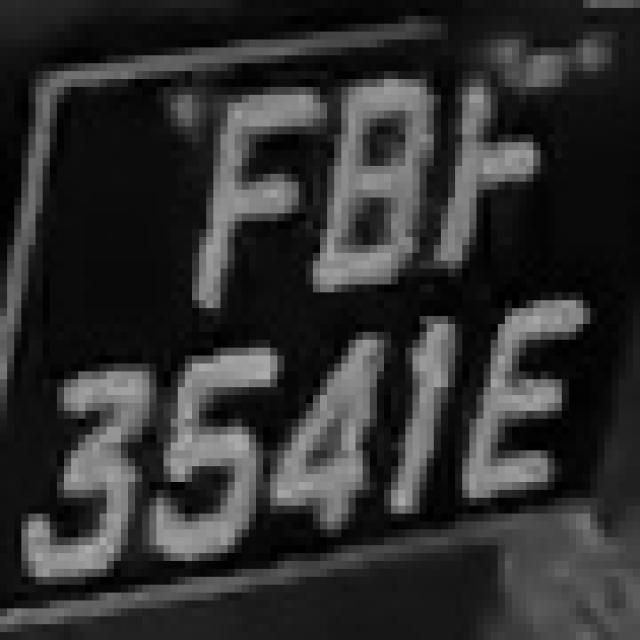1: (370, 292, 469, 530)
3: (22, 340, 164, 577)
4: (256, 308, 384, 553)
5: (121, 324, 277, 585)
B: (306, 24, 434, 308)
E: (462, 276, 590, 530)
F: (185, 63, 320, 332), (434, 40, 554, 276)
